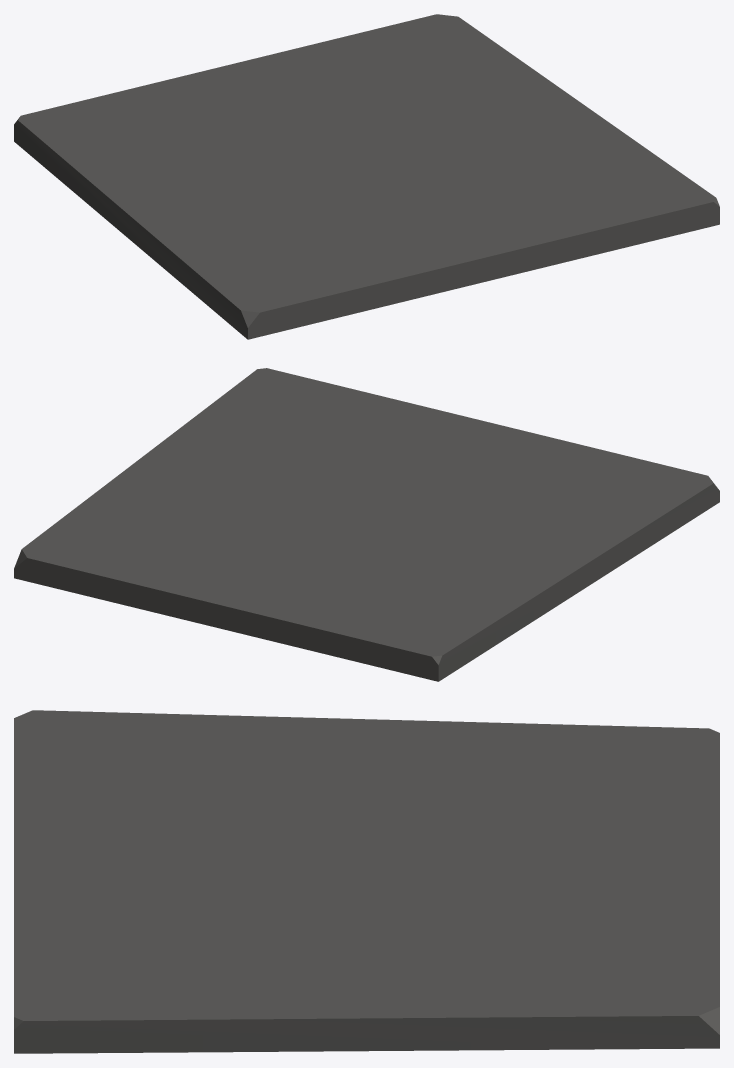
The model's file is Rock_Plane_2.fbx.
3 renders of one model, top to bottom at view 1: azimuth 30°, elevation 25°; view 2: azimuth 150°, elevation 25°; view 3: azimuth 270°, elevation 25°, orthographic. The views are drawn at different scales.
Visible parts, largest first — view 1: Rock_Plane_2; view 2: Rock_Plane_2; view 3: Rock_Plane_2.
Part boxes in pixels (<box>): Rock_Plane_2: <box>14,14,719,339</box>; Rock_Plane_2: <box>14,368,719,681</box>; Rock_Plane_2: <box>14,710,719,1053</box>.
Size of the model in its own units: 114 by 5.59 by 109.
Materials: 1 (1 with a texture image).
